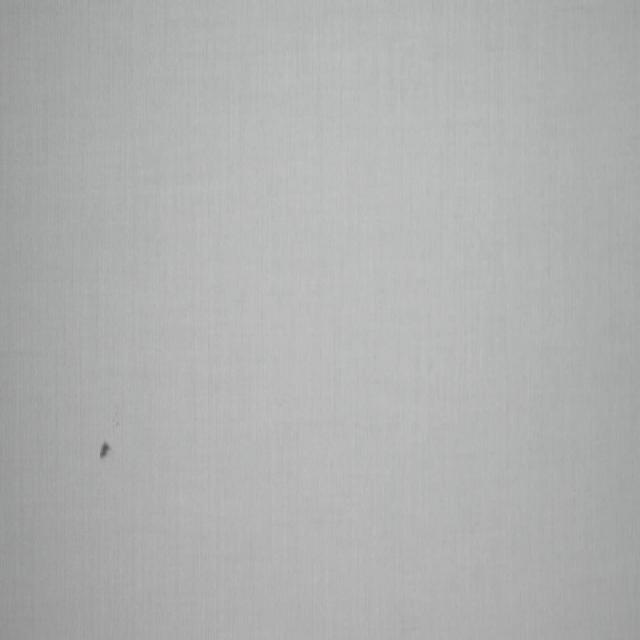dirty: (98, 441, 110, 462)
